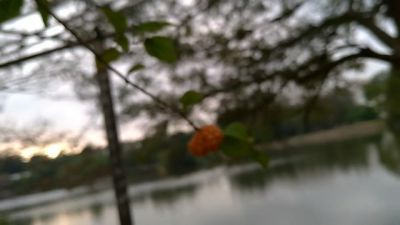eggs: (187, 123, 224, 157)
